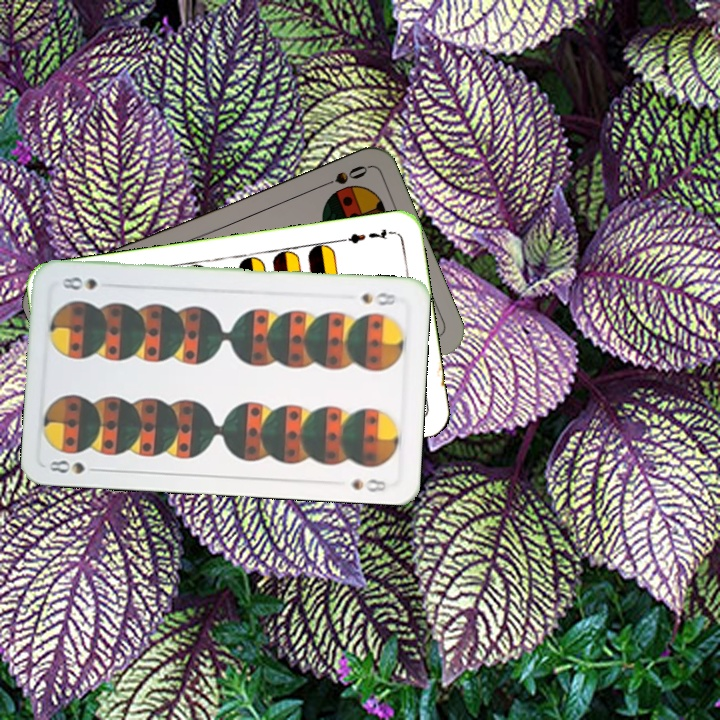E7: (337, 224, 396, 246)
S8: (45, 456, 104, 476), (357, 288, 404, 309)
SO: (313, 161, 371, 192)
